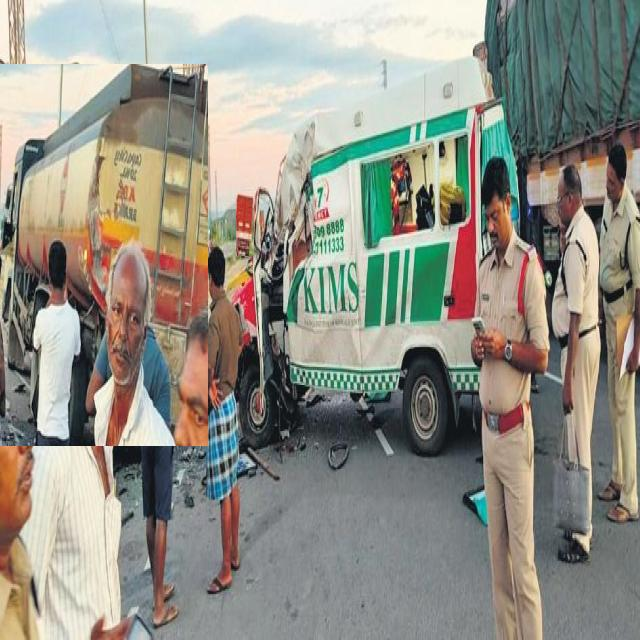accident: (232, 58, 519, 455)
truck: (0, 64, 208, 446), (473, 0, 640, 254), (236, 194, 254, 256)
